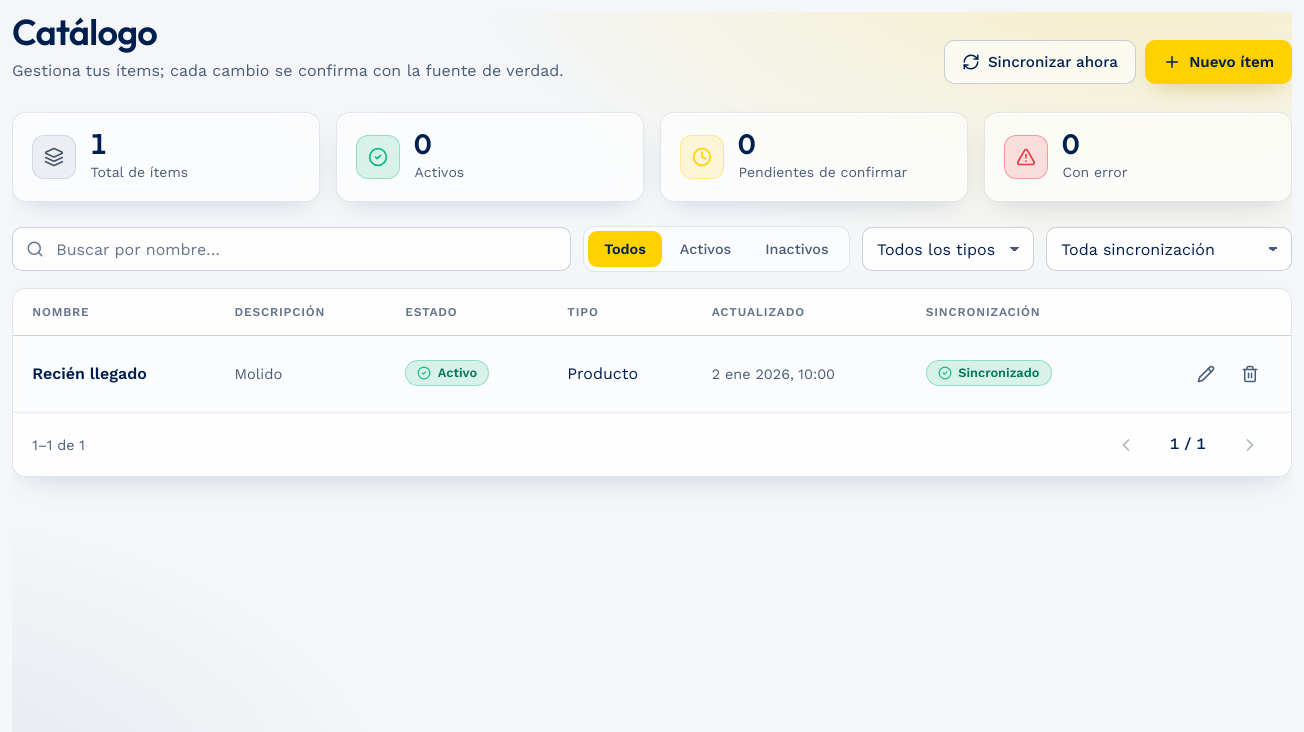
CatalogoList › permite forzar la reconciliación con el Producer y muestra el resumen
Step 1. Click the button "Sincronizar ahora" → (1040, 62), box [944, 40, 1136, 84]
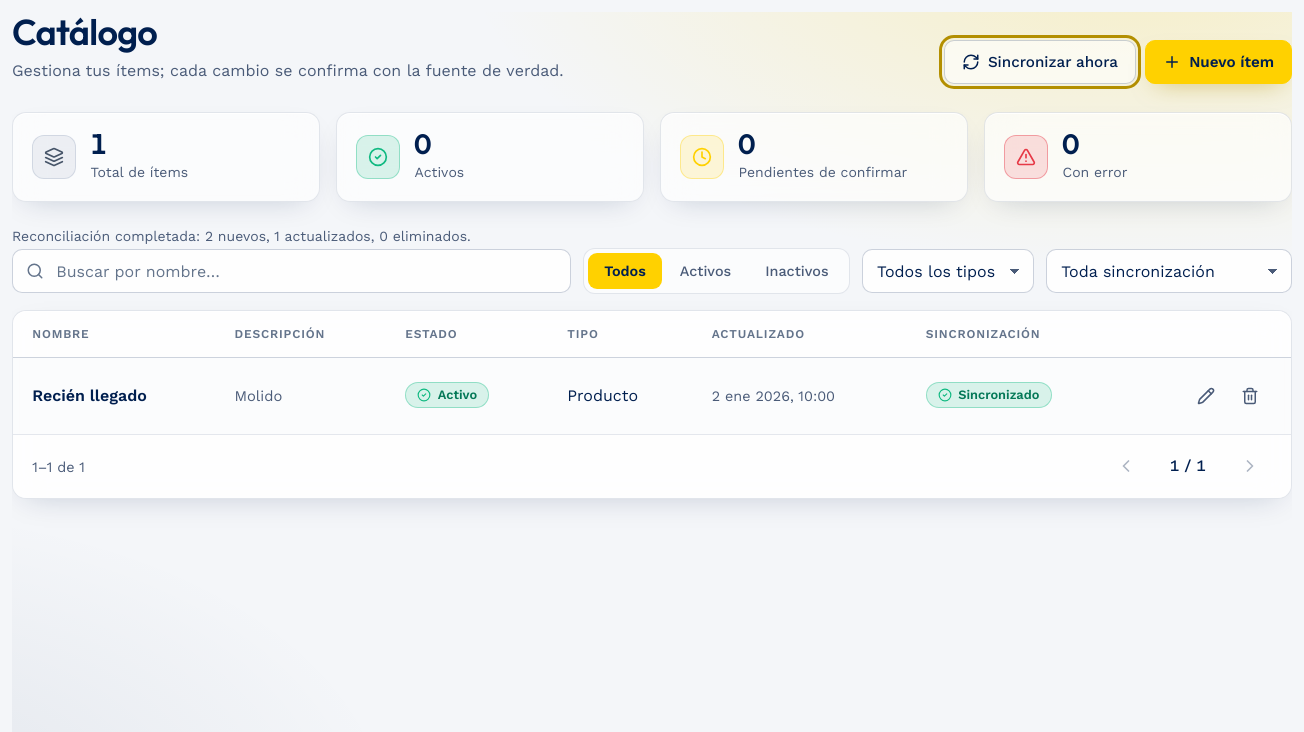
Check: the text "Reconciliación completada: 2 nuevos, 1 actualizados, 0 eliminados." is shown, box [12, 228, 471, 244]
